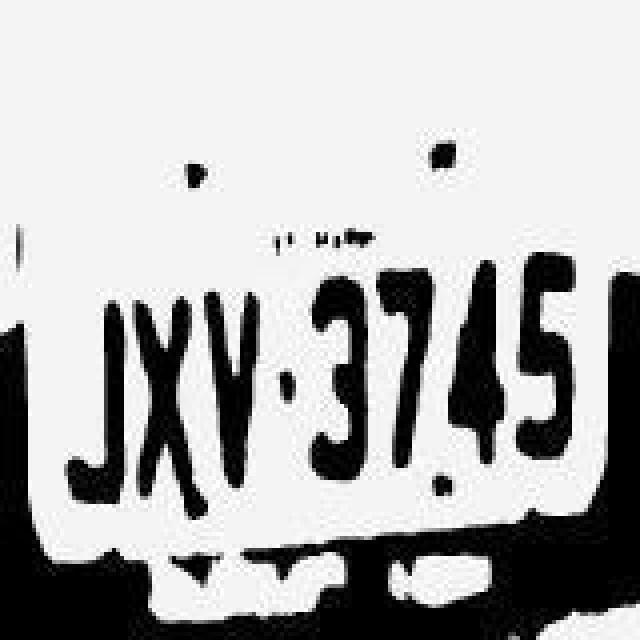3: (304, 270, 376, 482)
4: (446, 248, 514, 472)
5: (508, 244, 588, 476)
7: (376, 256, 440, 464)
J: (64, 290, 128, 510)
V: (206, 286, 274, 490)
X: (130, 276, 198, 500)
